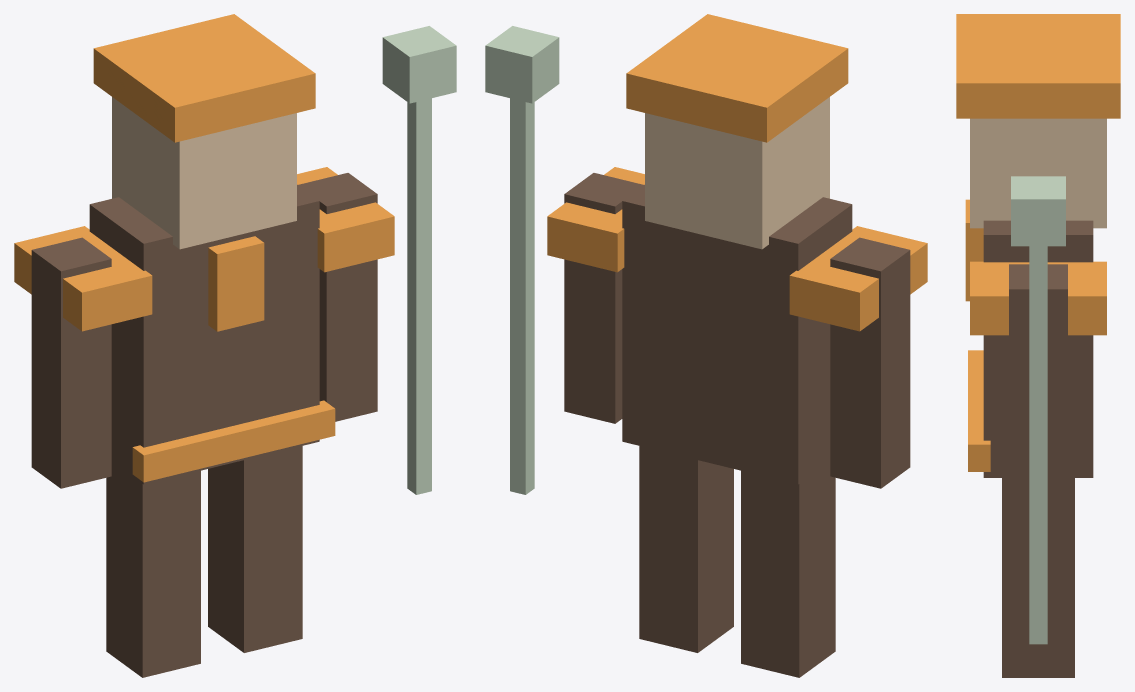
File: 09_sable_latchward_keeper_near_rhyme.glb
3 renders of one model, left to right at view 1: azimuth 30°, elevation 25°; view 2: azimuth 150°, elevation 25°; view 3: azimuth 270°, elevation 25°, orthographic.
Parts seen in each view (by area): view 1: Sable Latchward, Keeper near Rhyme; view 2: Sable Latchward, Keeper near Rhyme; view 3: Sable Latchward, Keeper near Rhyme.
Boxes of the visible parts, <box> form: Sable Latchward, Keeper near Rhyme: <box>14,14,456,677</box>; Sable Latchward, Keeper near Rhyme: <box>485,14,927,677</box>; Sable Latchward, Keeper near Rhyme: <box>956,14,1120,677</box>.
Bounding box in the file's own units: 1.07 × 1.5 × 0.3781.
